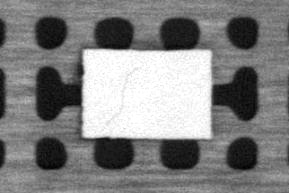DIE_CRACK: (98, 63, 144, 133)
